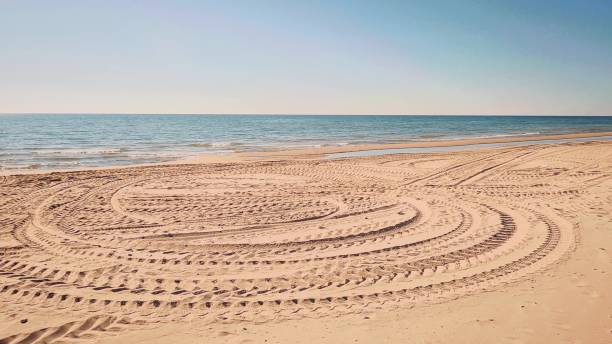vehicle_track: (0, 142, 611, 343)
